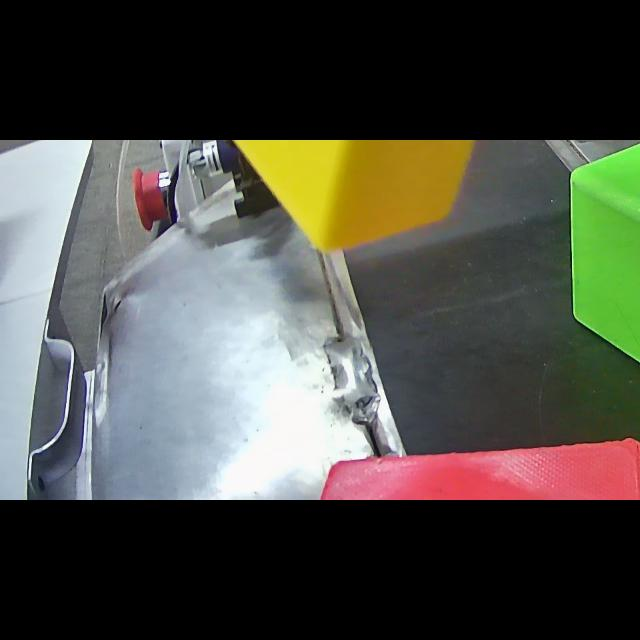greenBox: (568, 140, 640, 436)
redBox: (318, 430, 640, 500)
yellowBox: (212, 140, 554, 258)
